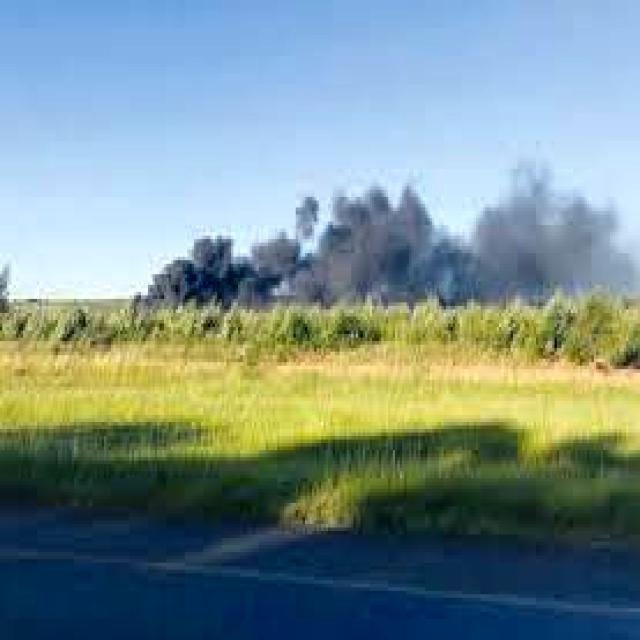Smoke: (143, 170, 637, 321)
